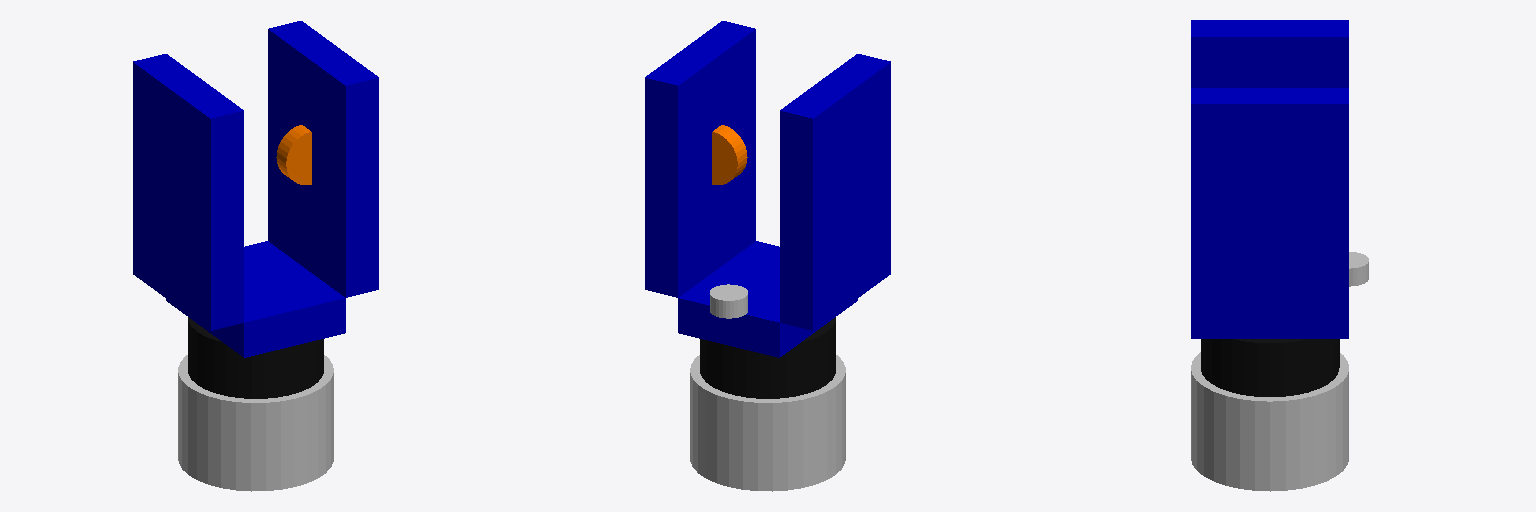
The robot description file, URDF, robot "orange_harvester_gripper":
<?xml version="1.0"?>
<robot name="orange_harvester_gripper">
  <!-- Materials -->
  <material name="blue">
    <color rgba="0.0 0.0 0.8 1.0"/>
  </material>
  <material name="silver">
    <color rgba="0.8 0.8 0.8 1.0"/>
  </material>
  <material name="black">
    <color rgba="0.1 0.1 0.1 1.0"/>
  </material>
  <material name="orange">
    <color rgba="1.0 0.5 0.0 1.0"/>
  </material>

  <!-- Base link for the end effector, connects to the robot arm -->
  <link name="base_link">
    <visual>
      <geometry>
        <cylinder length="0.05" radius="0.04"/>
      </geometry>
      <material name="silver"/>
      <origin xyz="0 0 0.025" rpy="0 0 0"/>
    </visual>
    <collision>
      <geometry>
        <cylinder length="0.05" radius="0.04"/>
      </geometry>
      <origin xyz="0 0 0.025" rpy="0 0 0"/>
    </collision>
    <inertial>
      <mass value="0.5"/>
      <inertia ixx="0.001" ixy="0" ixz="0" iyy="0.001" iyz="0" izz="0.001"/>
      <origin xyz="0 0 0.025" rpy="0 0 0"/>
    </inertial>
  </link>

  <!-- Rotary mechanism link -->
  <link name="rotary_link">
    <visual>
      <geometry>
        <cylinder length="0.03" radius="0.035"/>
      </geometry>
      <material name="black"/>
      <origin xyz="0 0 0.015" rpy="0 0 0"/>
    </visual>
    <collision>
      <geometry>
        <cylinder length="0.03" radius="0.035"/>
      </geometry>
      <origin xyz="0 0 0.015" rpy="0 0 0"/>
    </collision>
    <inertial>
      <mass value="0.3"/>
      <inertia ixx="0.0005" ixy="0" ixz="0" iyy="0.0005" iyz="0" izz="0.0005"/>
      <origin xyz="0 0 0.015" rpy="0 0 0"/>
    </inertial>
  </link>

  <!-- Rotary joint for spinning motion -->
  <joint name="spin_joint" type="continuous">
    <parent link="base_link"/>
    <child link="rotary_link"/>
    <origin xyz="0 0 0.05" rpy="0 0 0"/>
    <axis xyz="0 0 1"/>
    <dynamics damping="0.1" friction="0.1"/>
    <limit effort="50" velocity="5"/>
  </joint>

  <!-- Gripper palm link -->
  <link name="palm_link">
    <visual>
      <geometry>
        <box size="0.06 0.08 0.02"/>
      </geometry>
      <material name="blue"/>
      <origin xyz="0 0 0.01" rpy="0 0 0"/>
    </visual>
    <collision>
      <geometry>
        <box size="0.06 0.08 0.02"/>
      </geometry>
      <origin xyz="0 0 0.01" rpy="0 0 0"/>
    </collision>
    <inertial>
      <mass value="0.2"/>
      <inertia ixx="0.0003" ixy="0" ixz="0" iyy="0.0003" iyz="0" izz="0.0003"/>
      <origin xyz="0 0 0.01" rpy="0 0 0"/>
    </inertial>
  </link>

  <!-- Fixed joint connecting rotary to palm -->
  <joint name="rotary_to_palm" type="fixed">
    <parent link="rotary_link"/>
    <child link="palm_link"/>
    <origin xyz="0 0 0.03" rpy="0 0 0"/>
  </joint>

  <!-- Left finger link -->
  <link name="left_finger_link">
    <visual>
      <geometry>
        <box size="0.02 0.08 0.12"/>
      </geometry>
      <material name="blue"/>
      <origin xyz="0 0 0.06" rpy="0 0 0"/>
    </visual>
    <collision>
      <geometry>
        <box size="0.02 0.08 0.12"/>
      </geometry>
      <origin xyz="0 0 0.06" rpy="0 0 0"/>
    </collision>
    <inertial>
      <mass value="0.1"/>
      <inertia ixx="0.0001" ixy="0" ixz="0" iyy="0.0001" iyz="0" izz="0.0001"/>
      <origin xyz="0 0 0.06" rpy="0 0 0"/>
    </inertial>
  </link>

  <!-- Right finger link -->
  <link name="right_finger_link">
    <visual>
      <geometry>
        <box size="0.02 0.08 0.12"/>
      </geometry>
      <material name="blue"/>
      <origin xyz="0 0 0.06" rpy="0 0 0"/>
    </visual>
    <collision>
      <geometry>
        <box size="0.02 0.08 0.12"/>
      </geometry>
      <origin xyz="0 0 0.06" rpy="0 0 0"/>
    </collision>
    <inertial>
      <mass value="0.1"/>
      <inertia ixx="0.0001" ixy="0" ixz="0" iyy="0.0001" iyz="0" izz="0.0001"/>
      <origin xyz="0 0 0.06" rpy="0 0 0"/>
    </inertial>
  </link>

  <!-- Left finger pad link -->
  <link name="left_pad_link">
    <visual>
      <geometry>
        <cylinder length="0.01" radius="0.015"/>
      </geometry>
      <material name="orange"/>
      <origin xyz="0 0 0.005" rpy="1.5708 0 0"/>
    </visual>
    <collision>
      <geometry>
        <cylinder length="0.01" radius="0.015"/>
      </geometry>
      <origin xyz="0 0 0.005" rpy="1.5708 0 0"/>
    </collision>
    <inertial>
      <mass value="0.02"/>
      <inertia ixx="0.00001" ixy="0" ixz="0" iyy="0.00001" iyz="0" izz="0.00001"/>
      <origin xyz="0 0 0.005" rpy="1.5708 0 0"/>
    </inertial>
  </link>

  <!-- Right finger pad link -->
  <link name="right_pad_link">
    <visual>
      <geometry>
        <cylinder length="0.01" radius="0.015"/>
      </geometry>
      <material name="orange"/>
      <origin xyz="0 0 0.005" rpy="1.5708 0 0"/>
    </visual>
    <collision>
      <geometry>
        <cylinder length="0.01" radius="0.015"/>
      </geometry>
      <origin xyz="0 0 0.005" rpy="1.5708 0 0"/>
    </collision>
    <inertial>
      <mass value="0.02"/>
      <inertia ixx="0.00001" ixy="0" ixz="0" iyy="0.00001" iyz="0" izz="0.00001"/>
      <origin xyz="0 0 0.005" rpy="1.5708 0 0"/>
    </inertial>
  </link>

  <!-- Prismatic joint for left finger -->
  <joint name="left_finger_joint" type="prismatic">
    <parent link="palm_link"/>
    <child link="left_finger_link"/>
    <origin xyz="-0.04 0 0.02" rpy="0 0 0"/>
    <axis xyz="1 0 0"/>
    <limit lower="0" upper="0.03" effort="50" velocity="1"/>
    <dynamics damping="0.5" friction="0.5"/>
  </joint>

  <!-- Prismatic joint for right finger -->
  <joint name="right_finger_joint" type="prismatic">
    <parent link="palm_link"/>
    <child link="right_finger_link"/>
    <origin xyz="0.04 0 0.02" rpy="0 0 0"/>
    <axis xyz="-1 0 0"/>
    <limit lower="0" upper="0.03" effort="50" velocity="1"/>
    <dynamics damping="0.5" friction="0.5"/>
  </joint>

  <!-- Fixed joint for left finger pad -->
  <joint name="left_finger_pad_joint" type="fixed">
    <parent link="left_finger_link"/>
    <child link="left_pad_link"/>
    <origin xyz="0.01 0 0.06" rpy="0 0 0"/>
  </joint>

  <!-- Fixed joint for right finger pad -->
  <joint name="right_finger_pad_joint" type="fixed">
    <parent link="right_finger_link"/>
    <child link="right_pad_link"/>
    <origin xyz="-0.01 0 0.06" rpy="0 0 0"/>
  </joint>

  <!-- Sharp cutter link for stem cutting -->
  <link name="cutter_link">
    <visual>
      <geometry>
        <cylinder length="0.01" radius="0.01"/>
      </geometry>
      <material name="silver"/>
      <origin xyz="0 0 0.005" rpy="0 0 0"/>
    </visual>
    <collision>
      <geometry>
        <cylinder length="0.01" radius="0.01"/>
      </geometry>
      <origin xyz="0 0 0.005" rpy="0 0 0"/>
    </collision>
    <inertial>
      <mass value="0.05"/>
      <inertia ixx="0.00001" ixy="0" ixz="0" iyy="0.00001" iyz="0" izz="0.00001"/>
      <origin xyz="0 0 0.005" rpy="0 0 0"/>
    </inertial>
  </link>
  
  <!-- Fixed joint for cutter -->
  <joint name="cutter_joint" type="fixed">
    <parent link="palm_link"/>
    <child link="cutter_link"/>
    <origin xyz="0 0.04 0.02" rpy="0 0 0"/>
  </joint>

  <!-- Transmission for left finger -->
  <transmission name="left_finger_trans">
    <type>transmission_interface/SimpleTransmission</type>
    <joint name="left_finger_joint">
      <hardwareInterface>hardware_interface/PositionJointInterface</hardwareInterface>
    </joint>
    <actuator name="left_finger_motor">
      <hardwareInterface>hardware_interface/PositionJointInterface</hardwareInterface>
      <mechanicalReduction>1</mechanicalReduction>
    </actuator>
  </transmission>

  <!-- Transmission for right finger -->
  <transmission name="right_finger_trans">
    <type>transmission_interface/SimpleTransmission</type>
    <joint name="right_finger_joint">
      <hardwareInterface>hardware_interface/PositionJointInterface</hardwareInterface>
    </joint>
    <actuator name="right_finger_motor">
      <hardwareInterface>hardware_interface/PositionJointInterface</hardwareInterface>
      <mechanicalReduction>1</mechanicalReduction>
    </actuator>
  </transmission>

  <!-- Transmission for spin joint -->
  <transmission name="spin_joint_trans">
    <type>transmission_interface/SimpleTransmission</type>
    <joint name="spin_joint">
      <hardwareInterface>hardware_interface/VelocityJointInterface</hardwareInterface>
    </joint>
    <actuator name="spin_motor">
      <hardwareInterface>hardware_interface/VelocityJointInterface</hardwareInterface>
      <mechanicalReduction>1</mechanicalReduction>
    </actuator>
  </transmission>
</robot>

--- What the picture shows (computed from the rendered views, not written in the file) ---
3 views of the same robot in one strip: view 1: azimuth 30°, elevation 25°; view 2: azimuth 150°, elevation 25°; view 3: azimuth 270°, elevation 25° (orthographic).
Robot: orange_harvester_gripper — 8 links, 7 joints (1 continuous, 2 prismatic, 4 fixed); root link base_link; default pose: all joints at 0.
Visible links, largest first — view 1: left_finger_link, right_finger_link, base_link, palm_link, rotary_link, right_pad_link; view 2: left_finger_link, right_finger_link, base_link, palm_link, rotary_link, right_pad_link, cutter_link; view 3: right_finger_link, base_link, left_finger_link, rotary_link, palm_link, cutter_link.
Link boxes in pixels (bbox=[...]): left_finger_link: bbox=[133, 54, 243, 330]; right_finger_link: bbox=[268, 21, 378, 297]; base_link: bbox=[178, 355, 333, 491]; palm_link: bbox=[166, 241, 345, 357]; rotary_link: bbox=[188, 317, 323, 398]; right_pad_link: bbox=[276, 125, 311, 184]; left_finger_link: bbox=[780, 54, 890, 330]; right_finger_link: bbox=[645, 21, 755, 297]; base_link: bbox=[690, 355, 845, 491]; palm_link: bbox=[678, 241, 857, 357]; rotary_link: bbox=[700, 317, 835, 398]; right_pad_link: bbox=[712, 125, 747, 184]; cutter_link: bbox=[710, 284, 747, 318]; right_finger_link: bbox=[1191, 88, 1348, 319]; base_link: bbox=[1191, 352, 1348, 491]; left_finger_link: bbox=[1191, 20, 1348, 87]; rotary_link: bbox=[1201, 339, 1339, 396]; palm_link: bbox=[1191, 320, 1348, 338]; cutter_link: bbox=[1349, 252, 1368, 286].
Size in the robot's own frame: 0.1 by 0.09 by 0.22 metres.
Geometry: primitives only (box / cylinder / sphere), no mesh files.